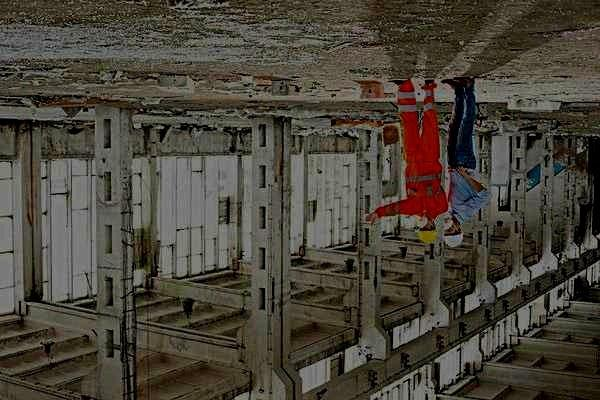helmet: (442, 216, 463, 248), (416, 216, 438, 244)
